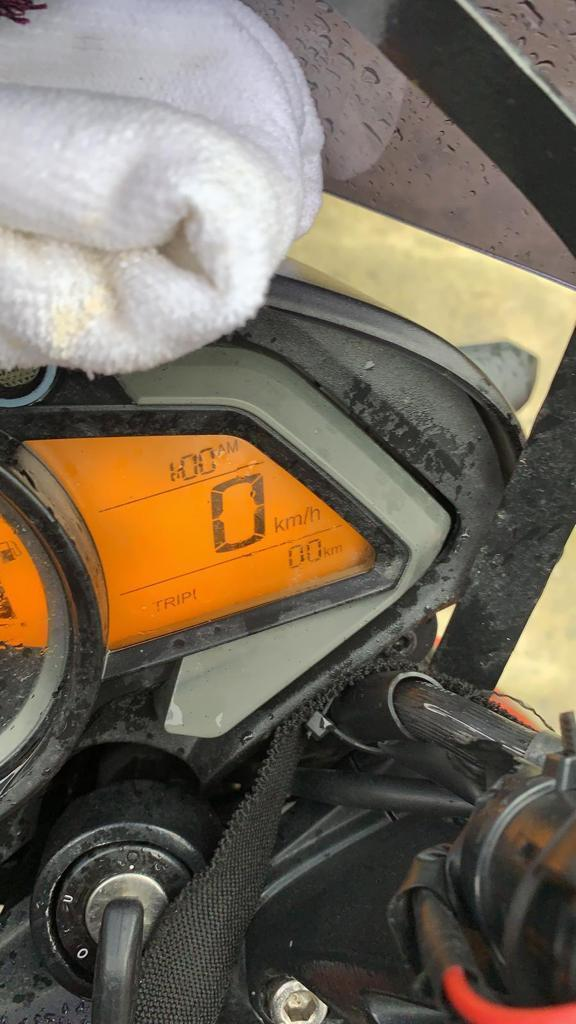0: (212, 475, 267, 553), (198, 445, 216, 475), (180, 454, 197, 481), (305, 539, 322, 563), (287, 545, 304, 568)
1: (167, 458, 175, 488), (191, 586, 197, 605)
X: (226, 439, 243, 455), (309, 503, 321, 524), (273, 514, 285, 534), (286, 514, 301, 528), (162, 594, 175, 610), (151, 597, 162, 613), (181, 589, 191, 604), (302, 504, 309, 524), (331, 544, 345, 553), (218, 443, 226, 455), (176, 463, 181, 482), (175, 591, 180, 609), (324, 546, 330, 559)
odometer: (0, 425, 379, 673)
